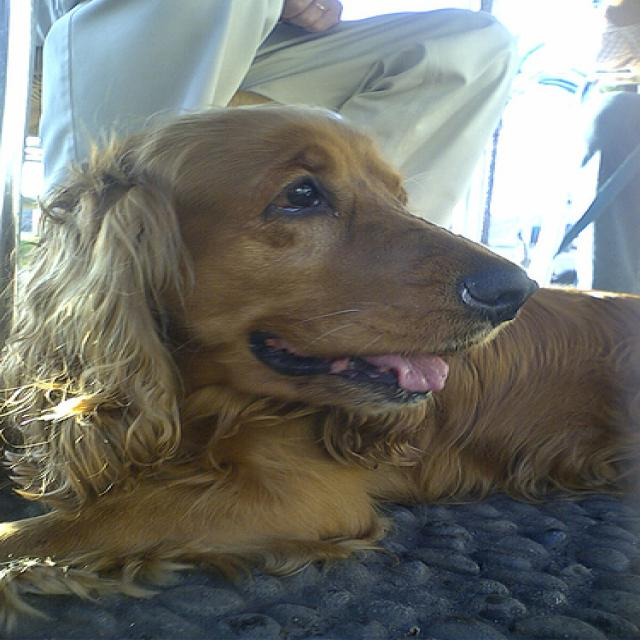dog: (1, 103, 639, 597)
person: (40, 1, 513, 229)
